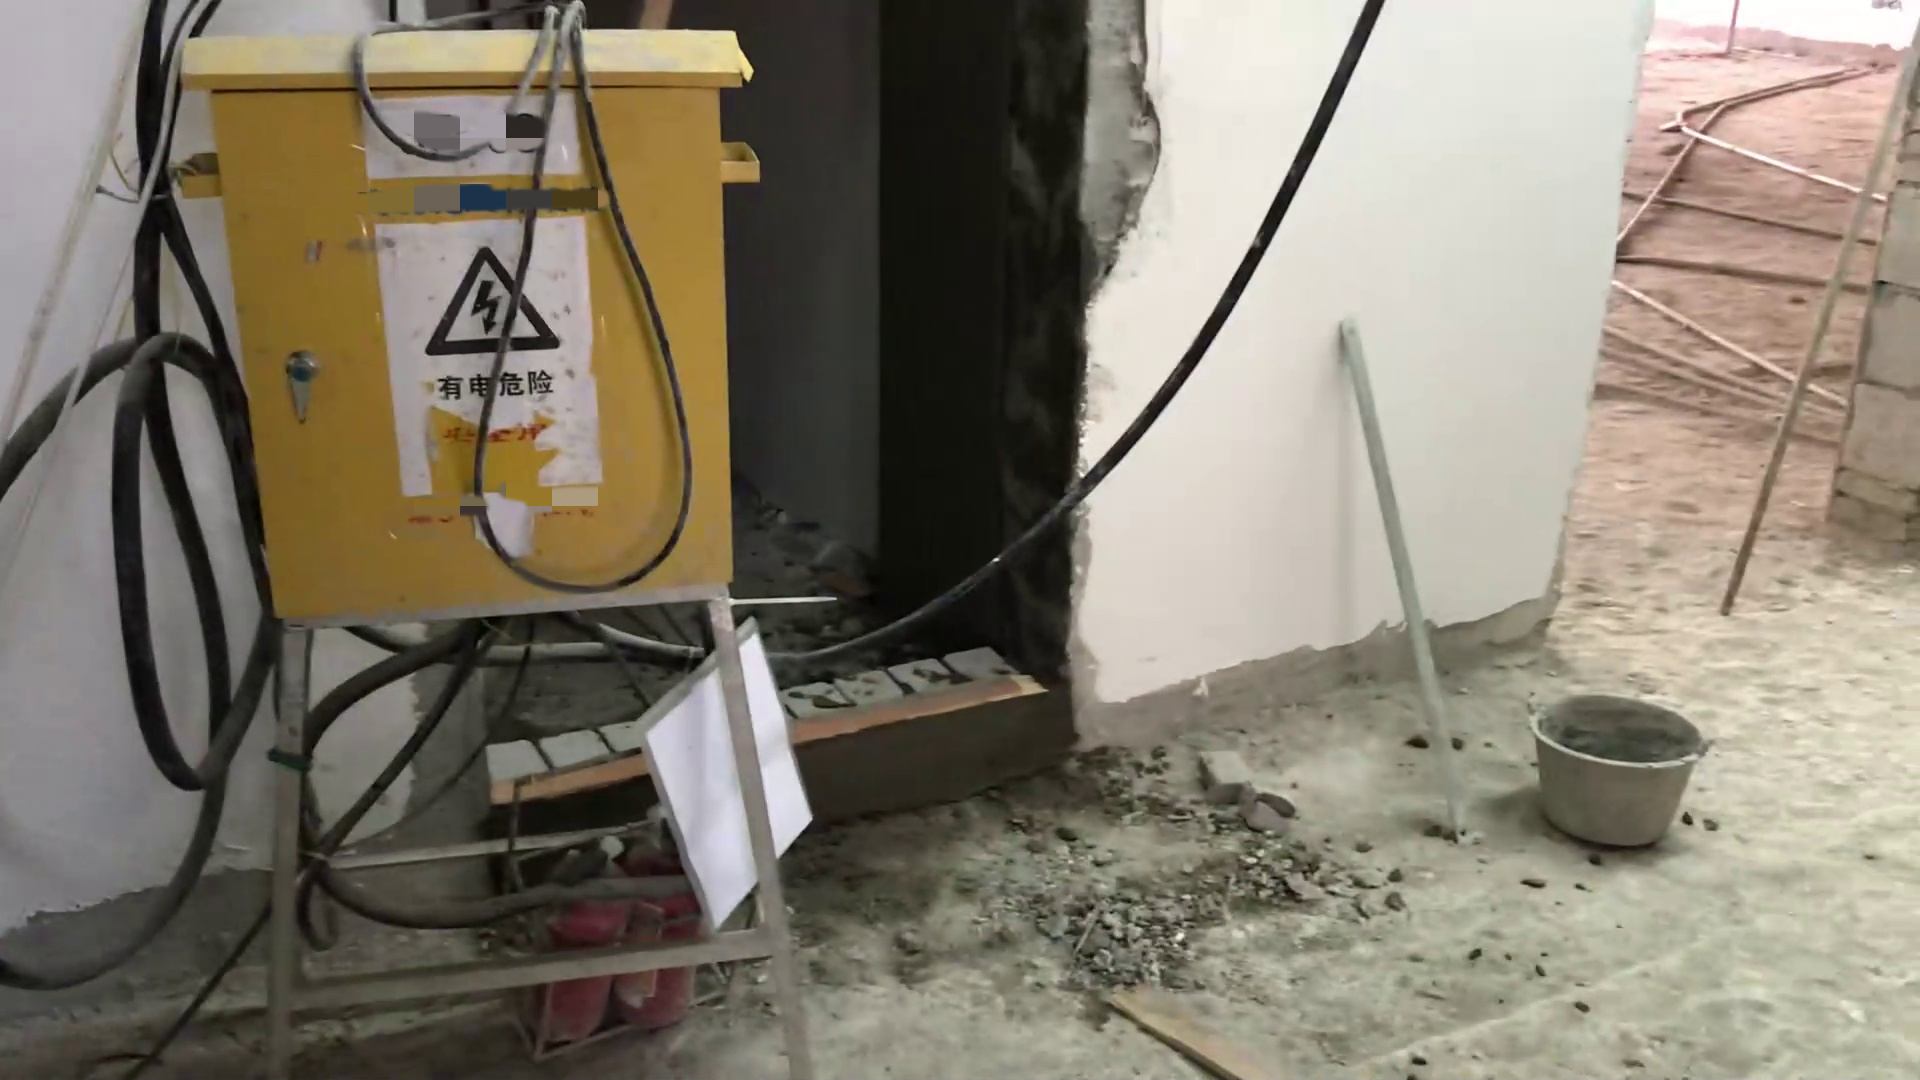ebox: (109, 7, 861, 1080)
